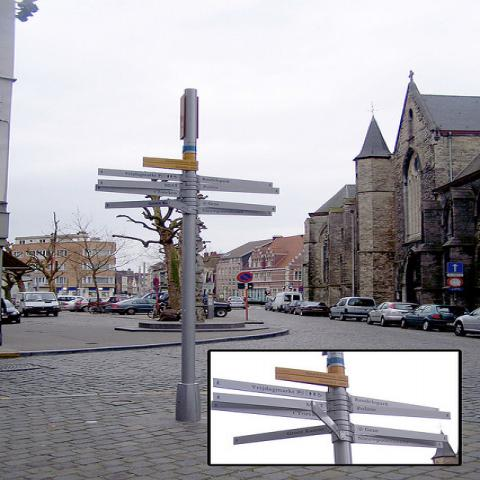car: (400, 304, 467, 330), (367, 302, 420, 326), (328, 297, 376, 321), (105, 298, 157, 315), (453, 307, 479, 336), (293, 301, 330, 318), (56, 296, 89, 311), (214, 300, 232, 318), (284, 301, 304, 314), (227, 299, 246, 309), (248, 298, 266, 306), (264, 300, 274, 310)
truck: (15, 291, 60, 319), (270, 292, 303, 313)
